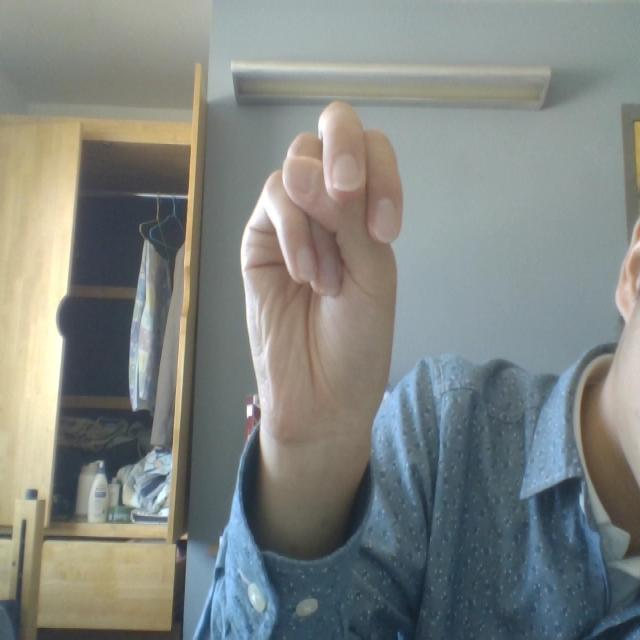N: (205, 63, 462, 464)
